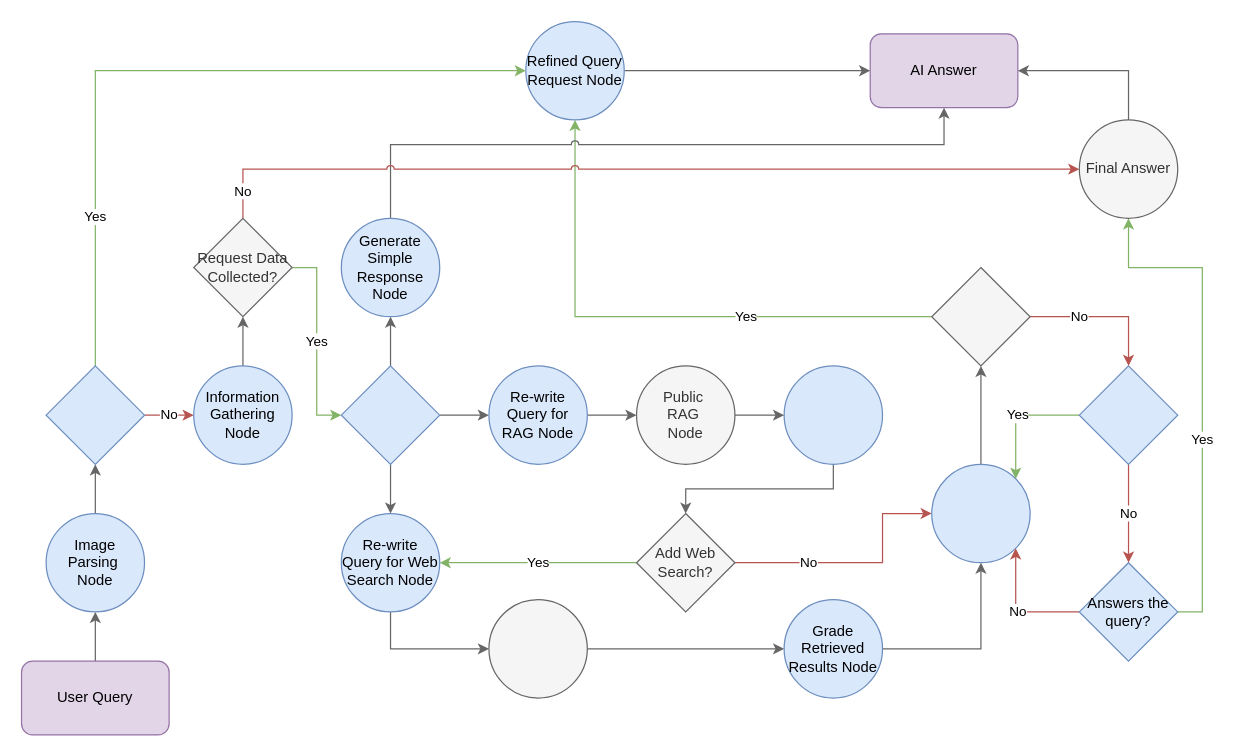
Image size: 1235x756. Some labels were removed from this diagram. The shapes that lost their labels are listed below. From the top down, each one's box as (x1, y1, x2, y2) in pixels, then its label:
(930, 266, 1030, 366): Too many tries?
(45, 365, 145, 464): Moderation needed?
(340, 365, 440, 464): Query Router
(783, 365, 883, 464): Grade Retrieved Docs Node
(1078, 365, 1178, 464): Hallucination?
(930, 463, 1030, 563): Generate Response Node
(488, 598, 587, 698): Web Search Tool Node
